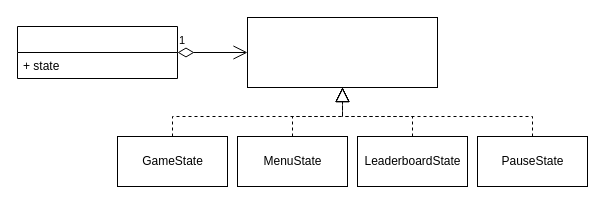
This 605x204 diagram has some shape labels left out. Here are the shapes that lost their labels. From the top down, the box of each, then its label:
(16, 26, 178, 78): Game
(246, 16, 438, 88): State + controller() + viewer()
